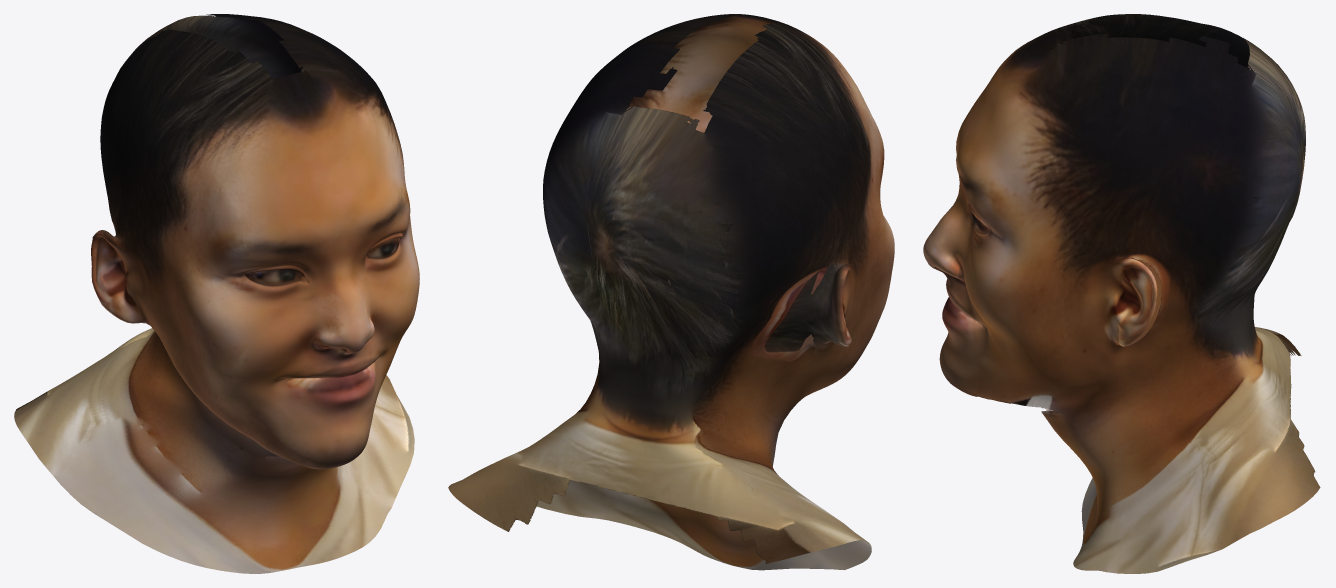
3 renders of one model, left to right at view 1: azimuth 30°, elevation 25°; view 2: azimuth 150°, elevation 25°; view 3: azimuth 270°, elevation 25°, orthographic. The views are drawn at different scales.
Visible parts, largest first — view 1: FBHead; view 2: FBHead; view 3: FBHead.
Boxes of the visible parts, bbox=[...] form: FBHead: bbox=[14, 14, 419, 573]; FBHead: bbox=[448, 14, 894, 570]; FBHead: bbox=[923, 14, 1320, 573].
Bounding box in the file's own units: 188 × 252 × 178.
Materials: 1 (1 with a texture image).
